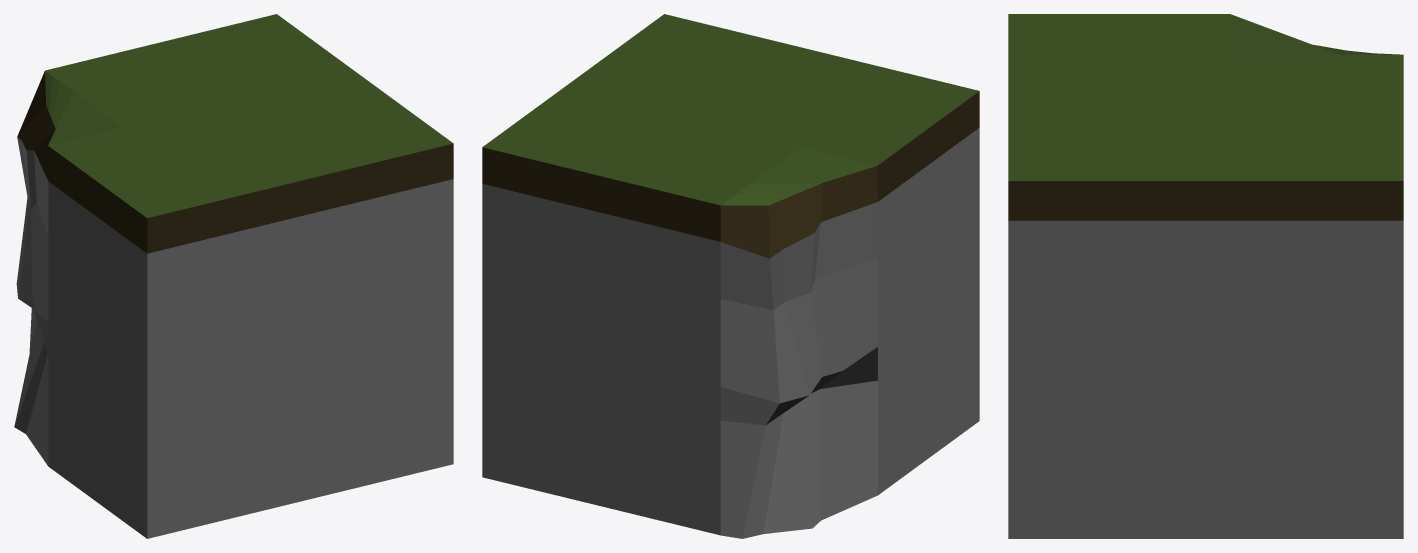
File: E_Rockwall06.fbx
The picture shows the model from 3 angles, left to right: view 1: azimuth 30°, elevation 25°; view 2: azimuth 150°, elevation 25°; view 3: azimuth 270°, elevation 25°; orthographic projection. The views are drawn at different scales.
Parts seen in each view (by area): view 1: E_Rockwall06; view 2: E_Rockwall06; view 3: E_Rockwall06.
Boxes of the visible parts, x1,y1,x2,y2 form: E_Rockwall06: [14, 14, 453, 538]; E_Rockwall06: [482, 14, 979, 538]; E_Rockwall06: [1008, 14, 1403, 538].
Size of the model in its own units: 100 by 100 by 100.
